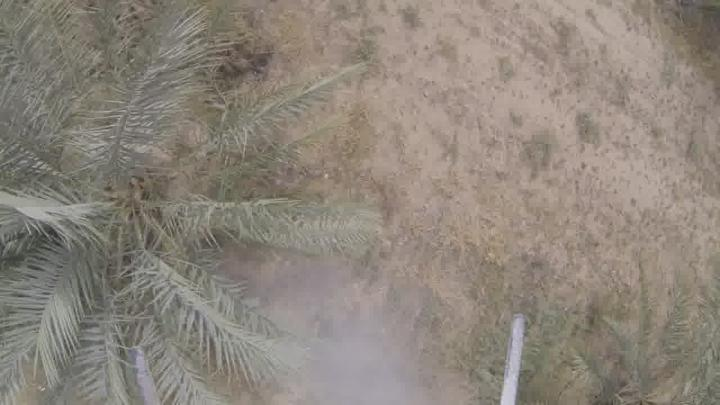Date-Palm-Crown: (0, 86, 266, 338)
